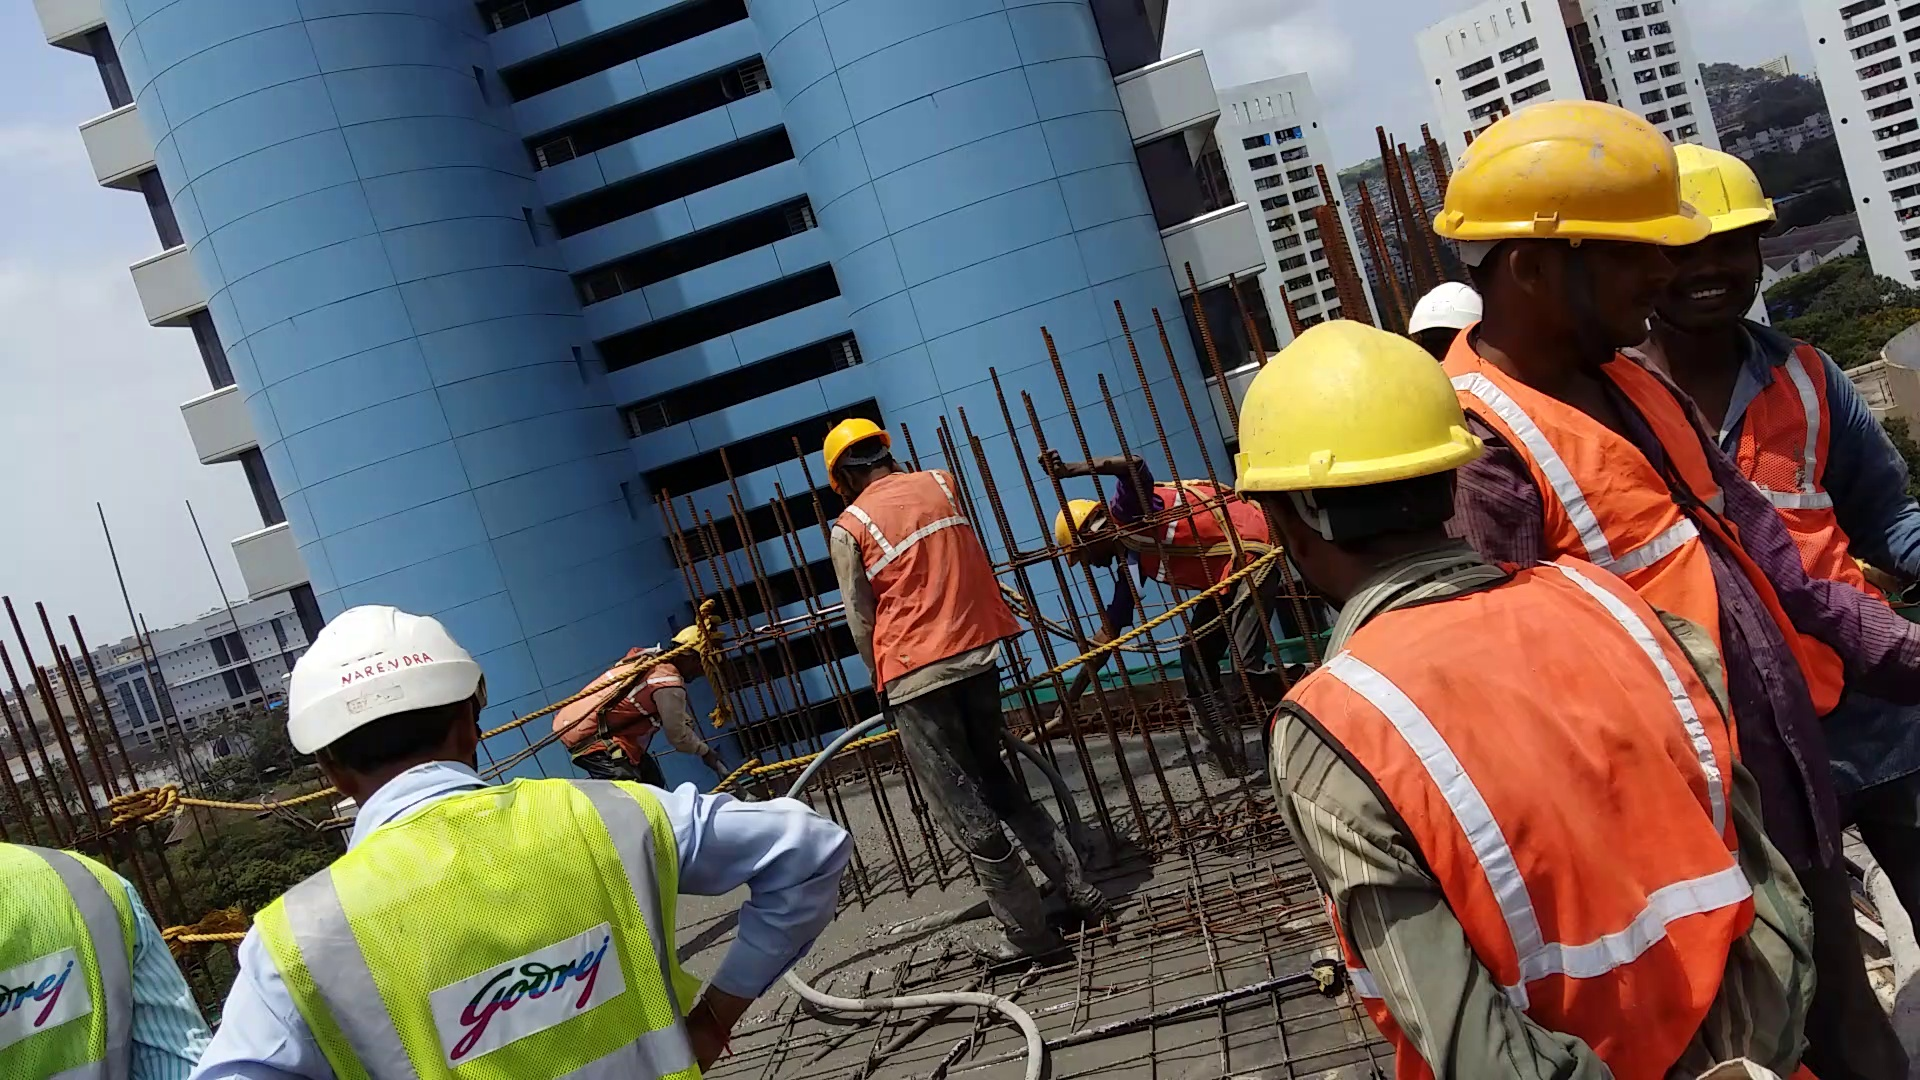SAFE: (1232, 313, 1745, 1080), (277, 600, 644, 1080), (819, 411, 975, 679)
